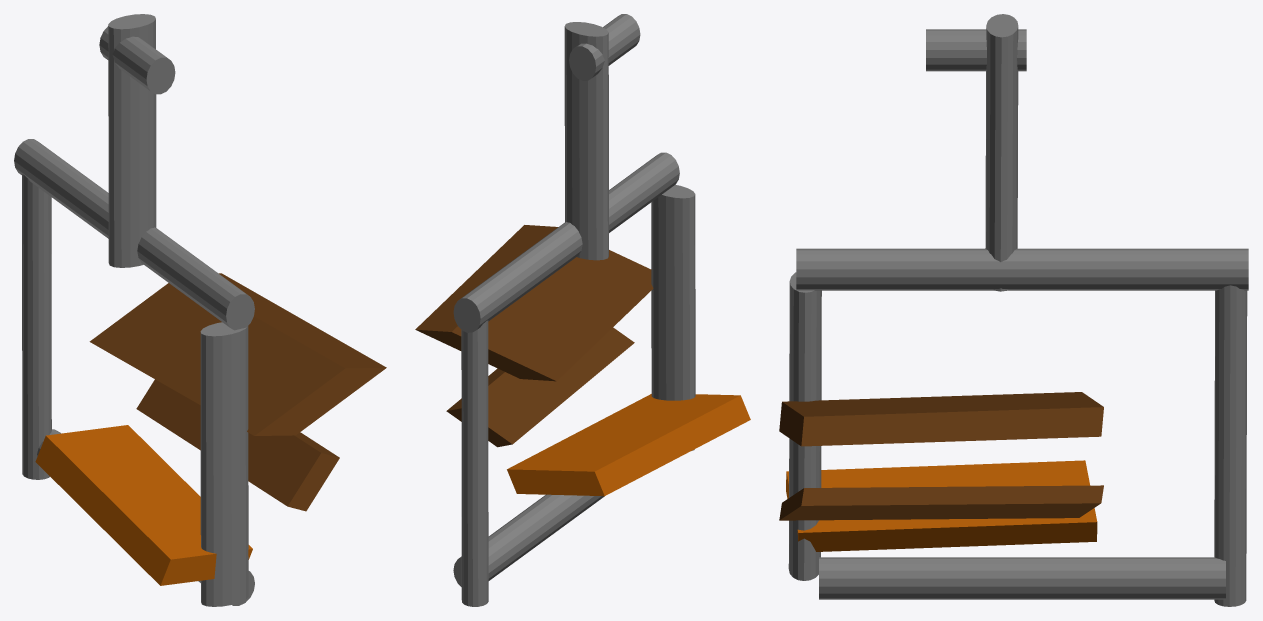
Rendered from lifttwinFBX.fbx.
3 views of the same model, side by side, from view 1: azimuth 30°, elevation 25°; view 2: azimuth 150°, elevation 25°; view 3: azimuth 270°, elevation 25° (orthographic). The views are drawn at different scales.
Visible parts, largest first — view 1: 閉じた線形状の掃引体_ncl1_6, 円の掃引体_ncl1_14, 閉じた線形状の掃引体, 円の掃引体_ncl1_17, 円の掃引体_ncl1_5, 円の掃引体_ncl1_11, 閉じた線形状の掃引体_ncl1_3, 閉じた線形状の掃引体_ncl1_2, 閉じた線形状の掃引体_ncl1_8, 円の掃引体_ncl1_8, 閉じた線形状の掃引体_ncl1_5, 円の掃引体_ncl1_7 (+2 smaller); view 2: 閉じた線形状の掃引体_ncl1_6, 円の掃引体_ncl1_14, 円の掃引体_ncl1_17, 円の掃引体_ncl1_11, 円の掃引体_ncl1_5, 閉じた線形状の掃引体, 閉じた線形状の掃引体_ncl1_2, 閉じた線形状の掃引体_ncl1_3, 円の掃引体_ncl1_2, 閉じた線形状の掃引体_ncl1_8, 円の掃引体_ncl1_8, 円の掃引体_ncl1_6 (+3 smaller); view 3: 円の掃引体_ncl1_5, 円の掃引体_ncl1_2, 円の掃引体_ncl1_11, 閉じた線形状の掃引体_ncl1_8, 閉じた線形状の掃引体, 円の掃引体_ncl1_17, 円の掃引体_ncl1_14, 閉じた線形状の掃引体_ncl1_2, 閉じた線形状の掃引体_ncl1_5, 閉じた線形状の掃引体_ncl1_6, 閉じた線形状の掃引体_ncl1_4, 円の掃引体_ncl1_8.
Part boxes in pixels (left/top/right/bottom): 閉じた線形状の掃引体_ncl1_6: left=89, top=283, right=344, bottom=435; 円の掃引体_ncl1_14: left=200, top=326, right=248, bottom=606; 閉じた線形状の掃引体: left=46, top=425, right=252, bottom=559; 円の掃引体_ncl1_17: left=108, top=19, right=156, bottom=267; 円の掃引体_ncl1_5: left=14, top=139, right=249, bottom=327; 円の掃引体_ncl1_11: left=22, top=174, right=51, bottom=479; 閉じた線形状の掃引体_ncl1_3: left=136, top=379, right=320, bottom=506; 閉じた線形状の掃引体_ncl1_2: left=35, top=436, right=252, bottom=585; 閉じた線形状の掃引体_ncl1_8: left=219, top=273, right=386, bottom=435; 円の掃引体_ncl1_8: left=99, top=26, right=169, bottom=90; 閉じた線形状の掃引体_ncl1_5: left=288, top=432, right=339, bottom=511; 円の掃引体_ncl1_7: left=146, top=57, right=175, bottom=94; 閉じた線形状の掃引体_ncl1_6: left=452, top=250, right=653, bottom=381; 円の掃引体_ncl1_14: left=651, top=194, right=695, bottom=450; 円の掃引体_ncl1_17: left=564, top=26, right=608, bottom=260; 円の掃引体_ncl1_11: left=461, top=320, right=488, bottom=606; 円の掃引体_ncl1_5: left=459, top=152, right=679, bottom=329; 閉じた線形状の掃引体: left=507, top=394, right=740, bottom=471; 閉じた線形状の掃引体_ncl1_2: left=507, top=395, right=750, bottom=496; 閉じた線形状の掃引体_ncl1_3: left=488, top=327, right=634, bottom=444; 円の掃引体_ncl1_2: left=459, top=494, right=604, bottom=580; 閉じた線形状の掃引体_ncl1_8: left=415, top=225, right=557, bottom=381; 円の掃引体_ncl1_8: left=575, top=14, right=640, bottom=77; 円の掃引体_ncl1_6: left=569, top=46, right=595, bottom=80; 円の掃引体_ncl1_5: left=796, top=248, right=1248, bottom=290; 円の掃引体_ncl1_2: left=819, top=557, right=1225, bottom=599; 円の掃引体_ncl1_11: left=1214, top=285, right=1247, bottom=606; 閉じた線形状の掃引体_ncl1_8: left=779, top=402, right=1103, bottom=446; 閉じた線形状の掃引体: left=786, top=460, right=1097, bottom=532; 円の掃引体_ncl1_17: left=985, top=26, right=1018, bottom=291; 円の掃引体_ncl1_14: left=788, top=281, right=821, bottom=580; 閉じた線形状の掃引体_ncl1_2: left=786, top=472, right=1097, bottom=551; 閉じた線形状の掃引体_ncl1_5: left=779, top=485, right=1103, bottom=520; 閉じた線形状の掃引体_ncl1_6: left=782, top=392, right=1103, bottom=416; 閉じた線形状の掃引体_ncl1_4: left=779, top=503, right=1100, bottom=520; 円の掃引体_ncl1_8: left=926, top=29, right=1026, bottom=71.
Size of the model in its own units: 124 by 271 by 203.
